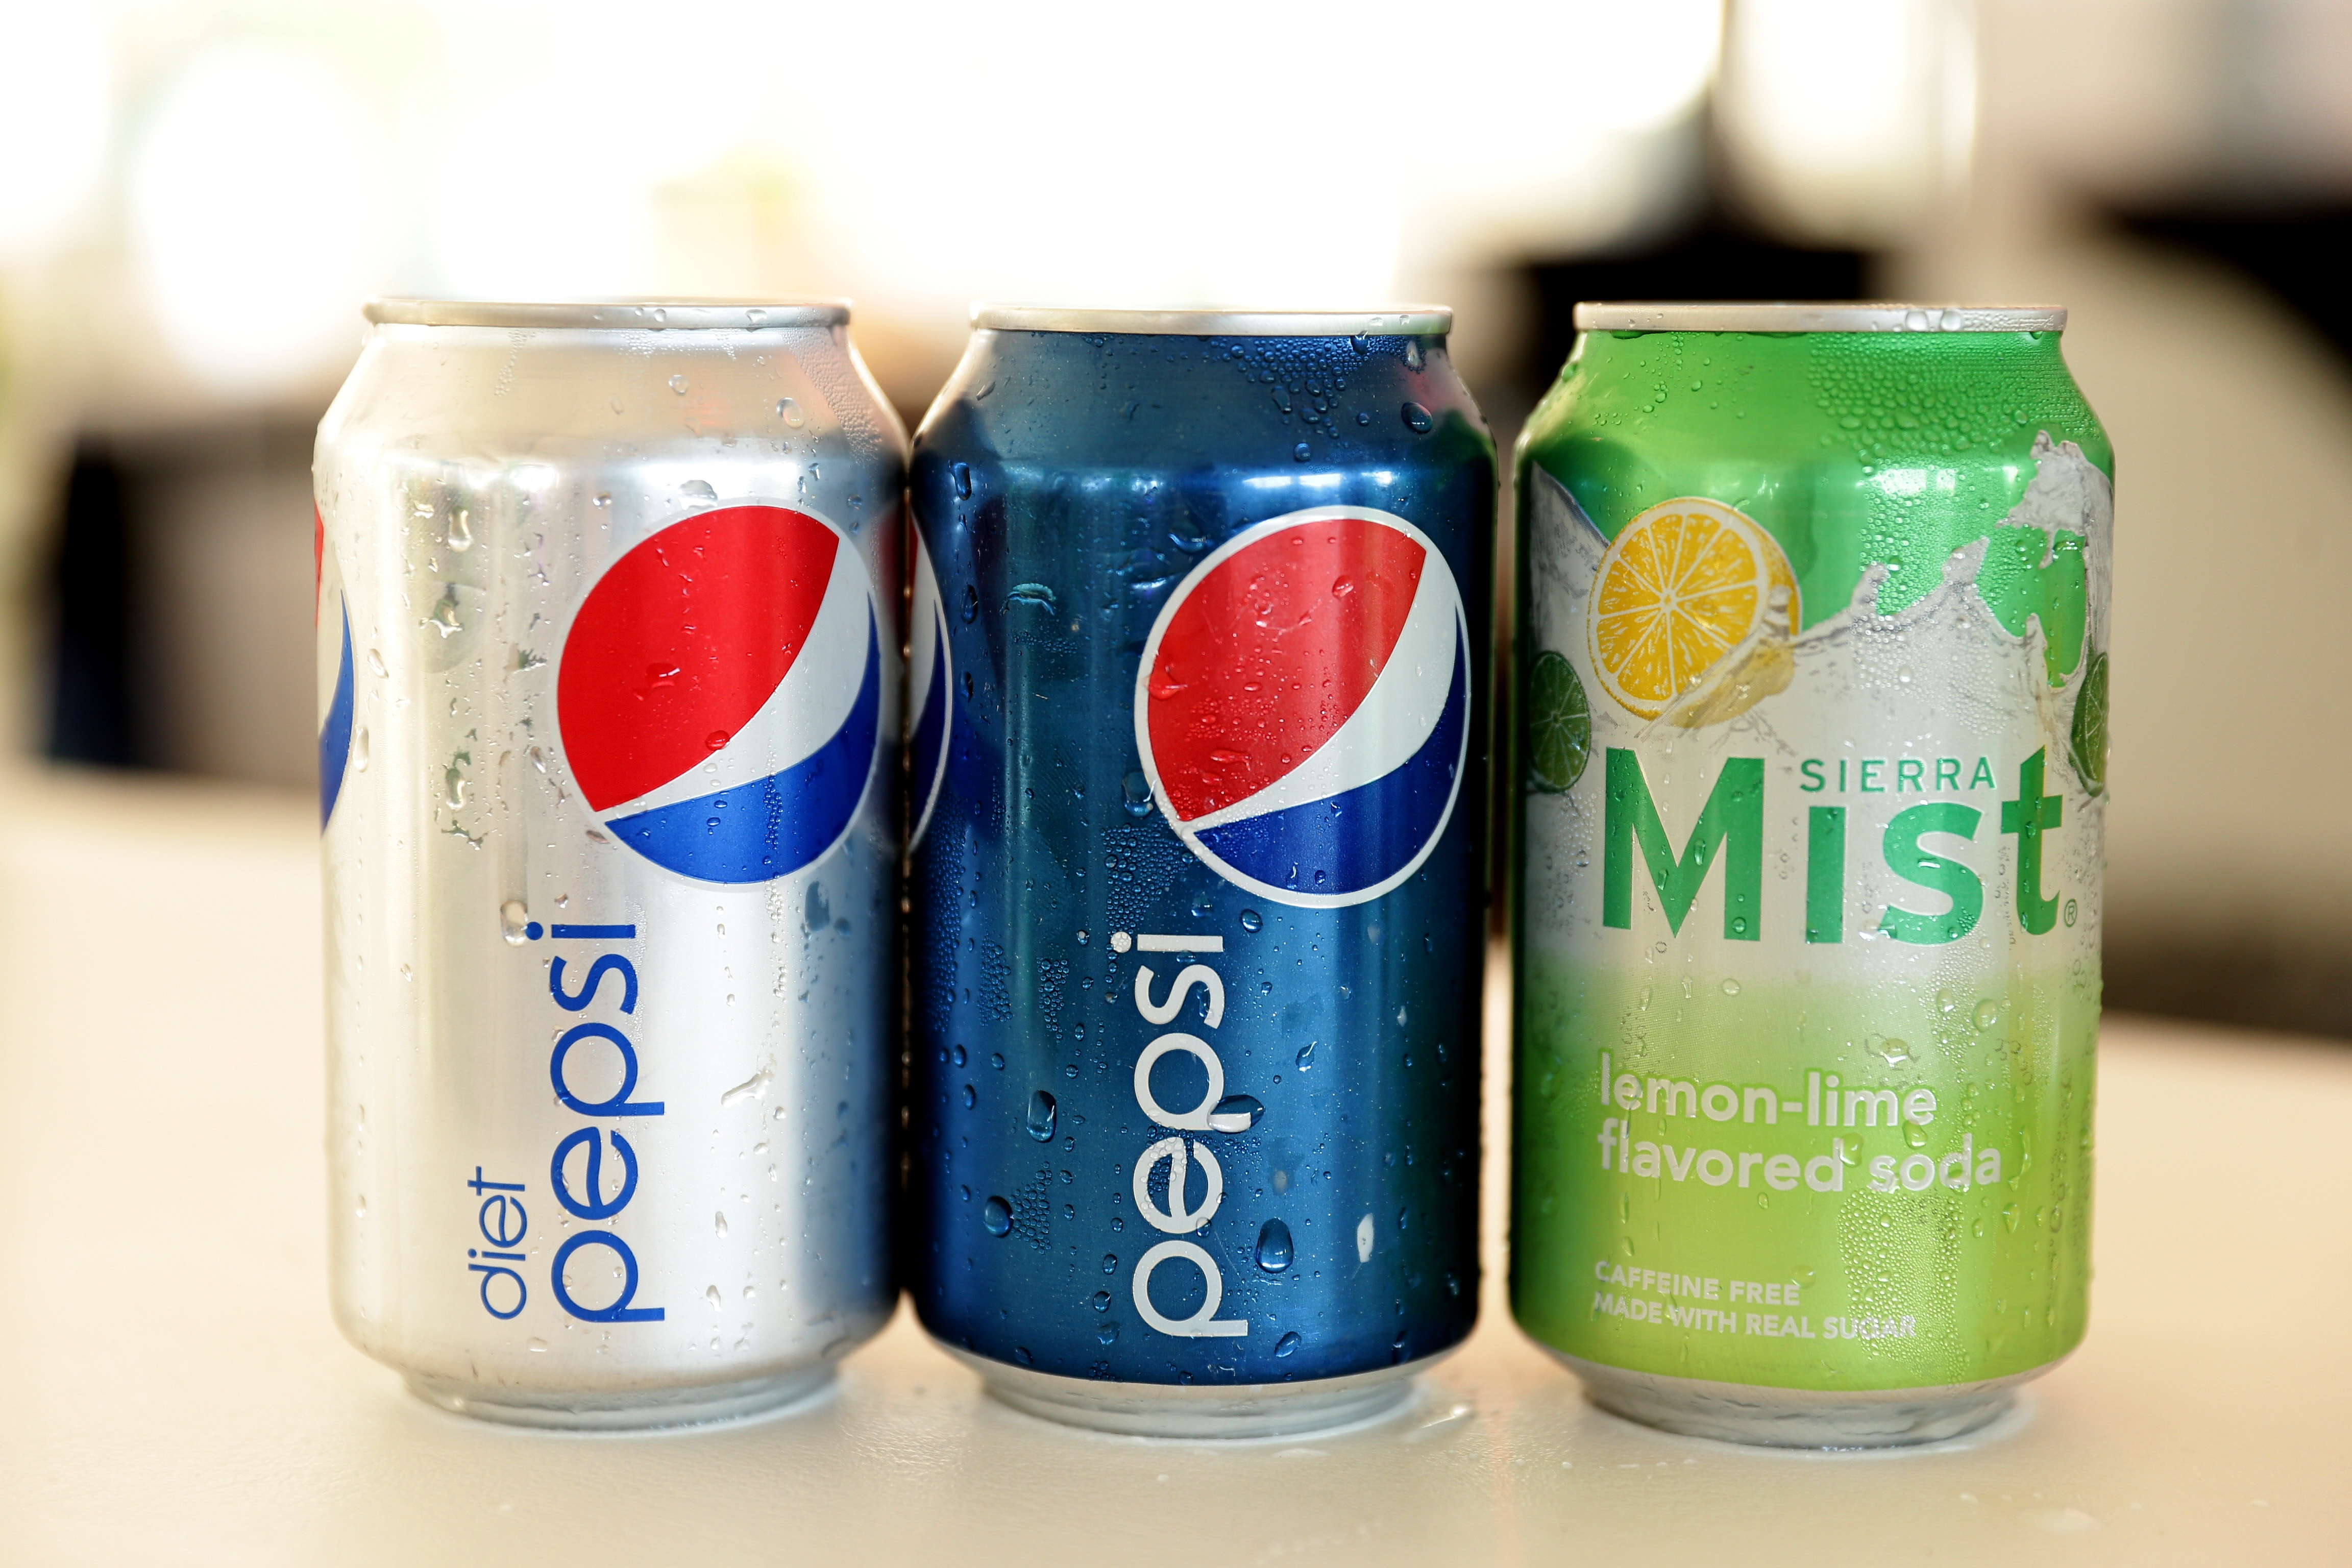pepsi: (569, 504, 892, 885), (569, 513, 892, 885), (1151, 511, 1472, 887)
